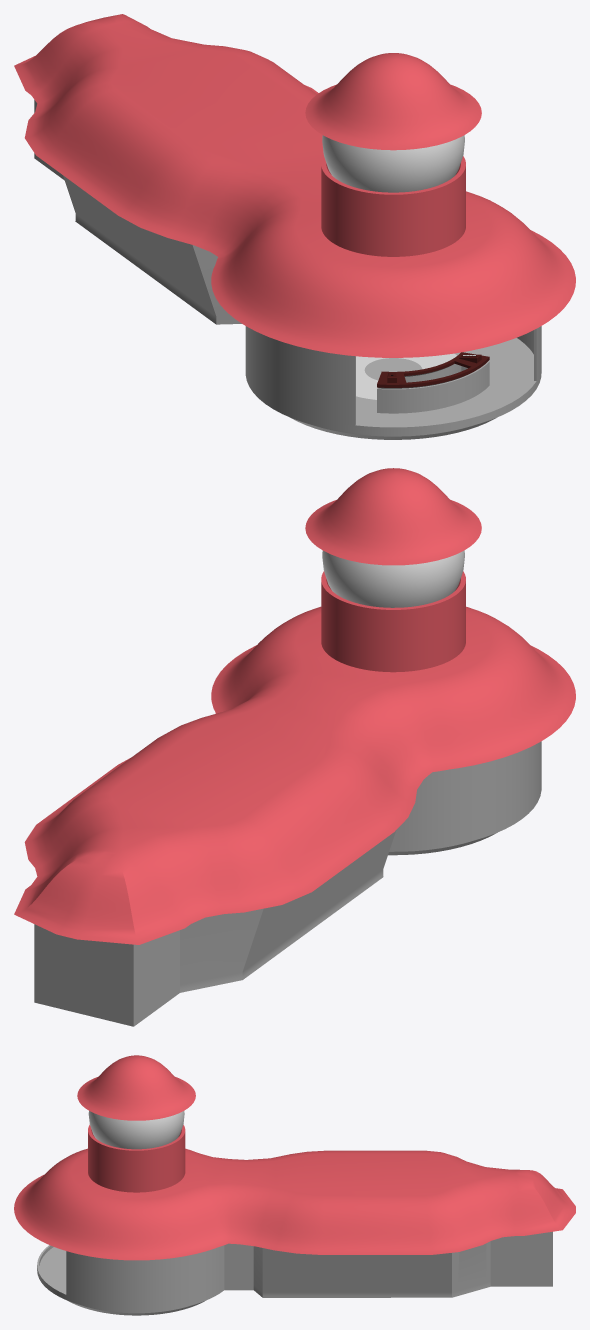
Rendered from Spaceship_v2.gltf.
The picture shows the model from 3 angles, top to bottom: view 1: azimuth 30°, elevation 25°; view 2: azimuth 150°, elevation 25°; view 3: azimuth 270°, elevation 25°; orthographic projection. The views are drawn at different scales.
Parts seen in each view (by area): view 1: RoofPrototype.001, OuterWalls, BezierCircle, CrowsNestTunnel, WorkshopWalls, Sphere, ControlPanel, CockpitBottomWindow, ChairBase; view 2: RoofPrototype.001, WorkshopWalls, BezierCircle, OuterWalls, CrowsNestTunnel, Sphere; view 3: RoofPrototype.001, WorkshopWalls, OuterWalls, BezierCircle, CrowsNestTunnel, Sphere.
Part boxes in pixels (bbox=[...]): RoofPrototype.001: bbox=[14, 14, 575, 357]; OuterWalls: bbox=[245, 326, 541, 439]; BezierCircle: bbox=[305, 53, 481, 150]; CrowsNestTunnel: bbox=[321, 156, 465, 256]; WorkshopWalls: bbox=[34, 100, 241, 324]; Sphere: bbox=[322, 135, 464, 192]; ControlPanel: bbox=[377, 352, 489, 413]; CockpitBottomWindow: bbox=[356, 353, 456, 399]; ChairBase: bbox=[364, 358, 422, 380]; RoofPrototype.001: bbox=[14, 606, 575, 944]; WorkshopWalls: bbox=[34, 830, 396, 1026]; BezierCircle: bbox=[305, 468, 481, 565]; OuterWalls: bbox=[388, 741, 541, 855]; CrowsNestTunnel: bbox=[321, 571, 465, 672]; Sphere: bbox=[322, 550, 464, 607]; RoofPrototype.001: bbox=[14, 1148, 575, 1260]; WorkshopWalls: bbox=[250, 1231, 552, 1297]; OuterWalls: bbox=[37, 1243, 250, 1315]; BezierCircle: bbox=[77, 1055, 195, 1120]; CrowsNestTunnel: bbox=[88, 1125, 185, 1192]; Sphere: bbox=[88, 1111, 184, 1149].
Bounding box in the file's own units: 12.57 × 13.45 × 28.8.
